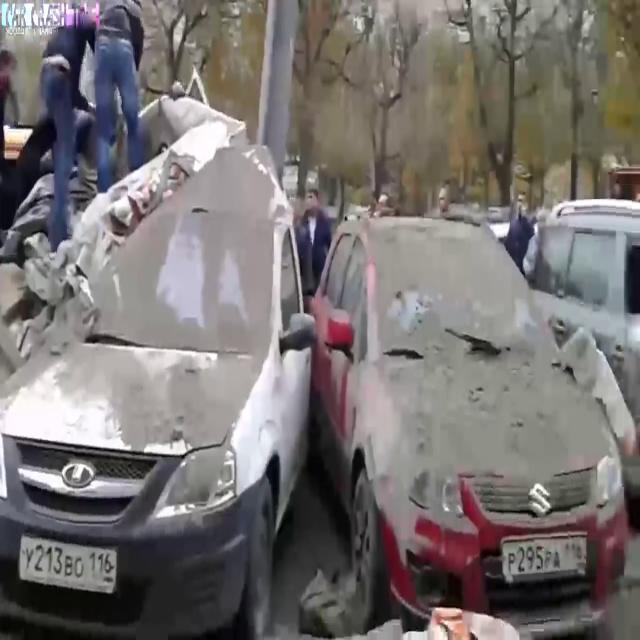Accident: (0, 26, 270, 512), (348, 198, 614, 619)
